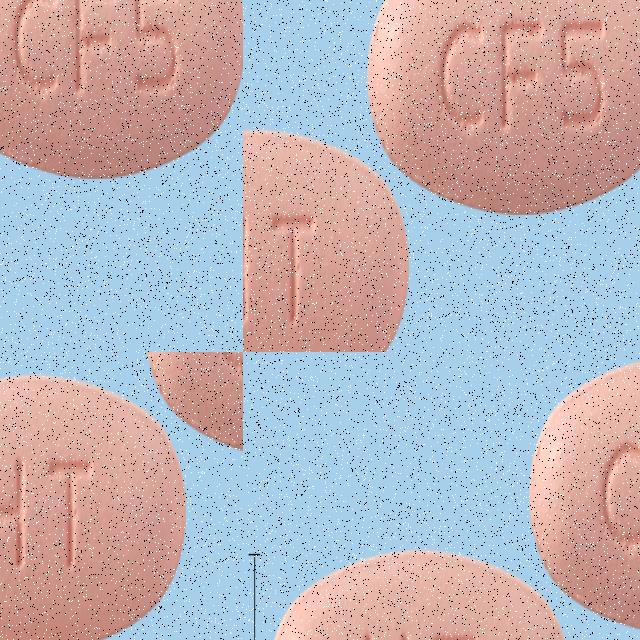Cipoxcin: (243, 170, 456, 352)
Claroad: (0, 469, 233, 640)
Clazin - 500mg: (0, 0, 233, 174)
Crafroxin Tab: (528, 353, 640, 634), (266, 548, 571, 640)
